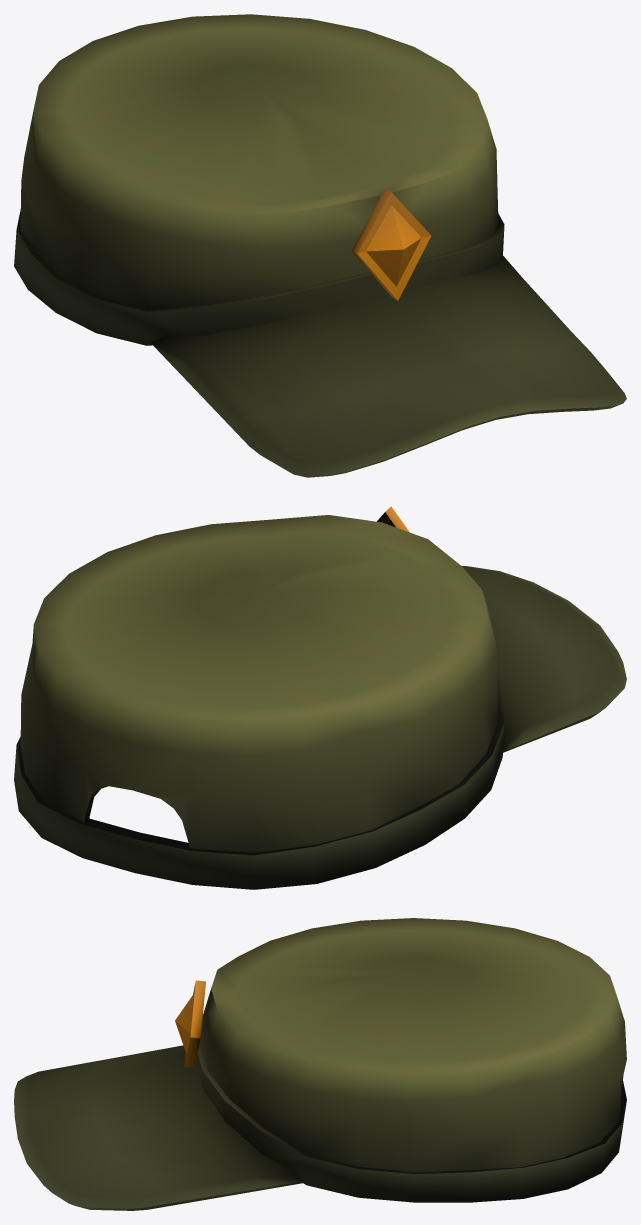
Rendered from Cap_Military_Cap.gltf.
The picture shows the model from 3 angles, top to bottom: view 1: azimuth 30°, elevation 25°; view 2: azimuth 150°, elevation 25°; view 3: azimuth 270°, elevation 25°; orthographic projection. The views are drawn at different scales.
Parts seen in each view (by area): view 1: Cap_Military_Cap; view 2: Cap_Military_Cap; view 3: Cap_Military_Cap.
Part boxes in pixels (<box>): Cap_Military_Cap: <box>14,14,626,477</box>; Cap_Military_Cap: <box>14,506,626,889</box>; Cap_Military_Cap: <box>14,918,626,1210</box>.
Size of the model in its own units: 0.7738 by 0.3698 by 1.2.
Materials: 2 (2 with a texture image).
